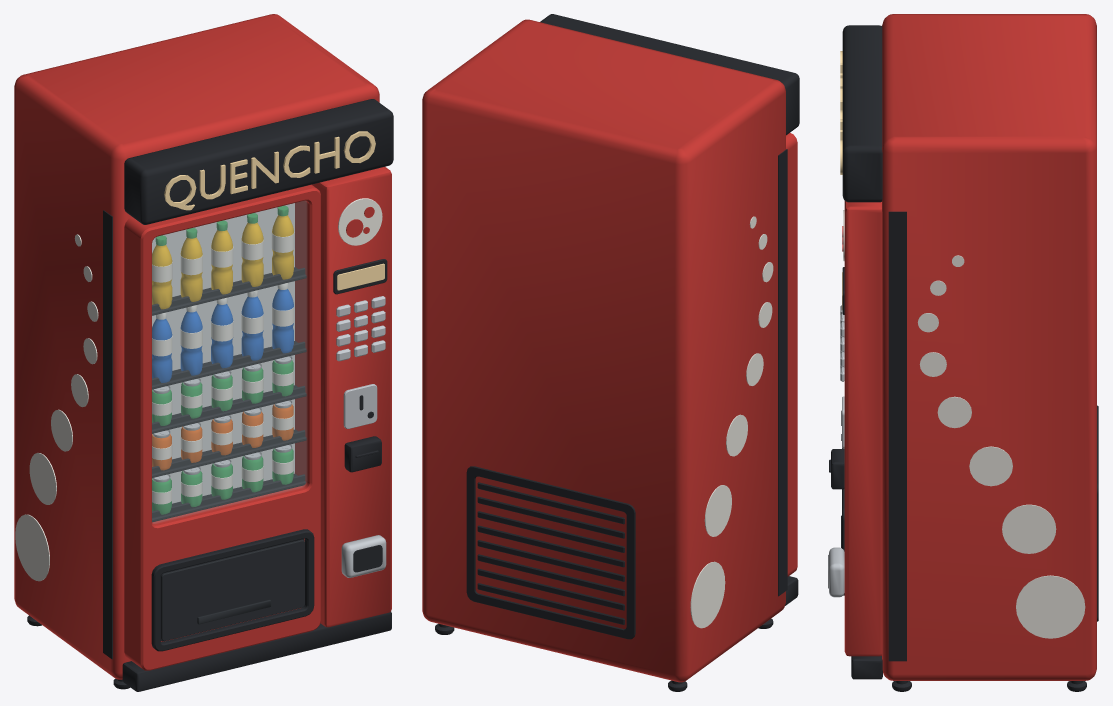
The model's file is VendingMachine.fbx.
3 renders of one model, left to right at view 1: azimuth 30°, elevation 25°; view 2: azimuth 150°, elevation 25°; view 3: azimuth 270°, elevation 25°, orthographic.
Parts seen in each view (by area): view 1: VendingMachine_Cabinet, VendingMachine_Glass, VendingMachine_Trim, VendingMachine_Door, VendingMachine_Panel, VendingMachine_Interior, VendingMachine_Flap, VendingMachine_Stock_Label, VendingMachine_Graphics, VendingMachine_Stock_Prod_Green, VendingMachine_Stock_Prod_Blue, VendingMachine_Stock_Prod_Yellow (+5 smaller); view 2: VendingMachine_Cabinet, VendingMachine_Trim, VendingMachine_Door, VendingMachine_Graphics; view 3: VendingMachine_Cabinet, VendingMachine_Trim, VendingMachine_Panel, VendingMachine_Graphics, VendingMachine_Metal.
Part boxes in pixels (x1,y1,x2,y2): VendingMachine_Cabinet: [14, 14, 379, 679]; VendingMachine_Glass: [152, 201, 306, 523]; VendingMachine_Trim: [27, 99, 393, 691]; VendingMachine_Door: [124, 184, 320, 670]; VendingMachine_Panel: [312, 167, 391, 627]; VendingMachine_Interior: [152, 203, 294, 503]; VendingMachine_Flap: [161, 539, 304, 641]; VendingMachine_Stock_Label: [152, 232, 294, 504]; VendingMachine_Graphics: [15, 198, 382, 581]; VendingMachine_Stock_Prod_Green: [152, 205, 293, 514]; VendingMachine_Stock_Prod_Blue: [152, 289, 293, 382]; VendingMachine_Stock_Prod_Yellow: [152, 215, 293, 309]; VendingMachine_Cabinet: [422, 19, 785, 682]; VendingMachine_Trim: [435, 14, 799, 691]; VendingMachine_Door: [786, 133, 797, 576]; VendingMachine_Graphics: [690, 216, 773, 628]; VendingMachine_Cabinet: [882, 14, 1096, 680]; VendingMachine_Trim: [829, 25, 1098, 691]; VendingMachine_Panel: [844, 201, 882, 656]; VendingMachine_Graphics: [843, 210, 1085, 638]; VendingMachine_Metal: [829, 305, 844, 597].
Size of the model in its own units: 95.54 by 185 by 81.75.
